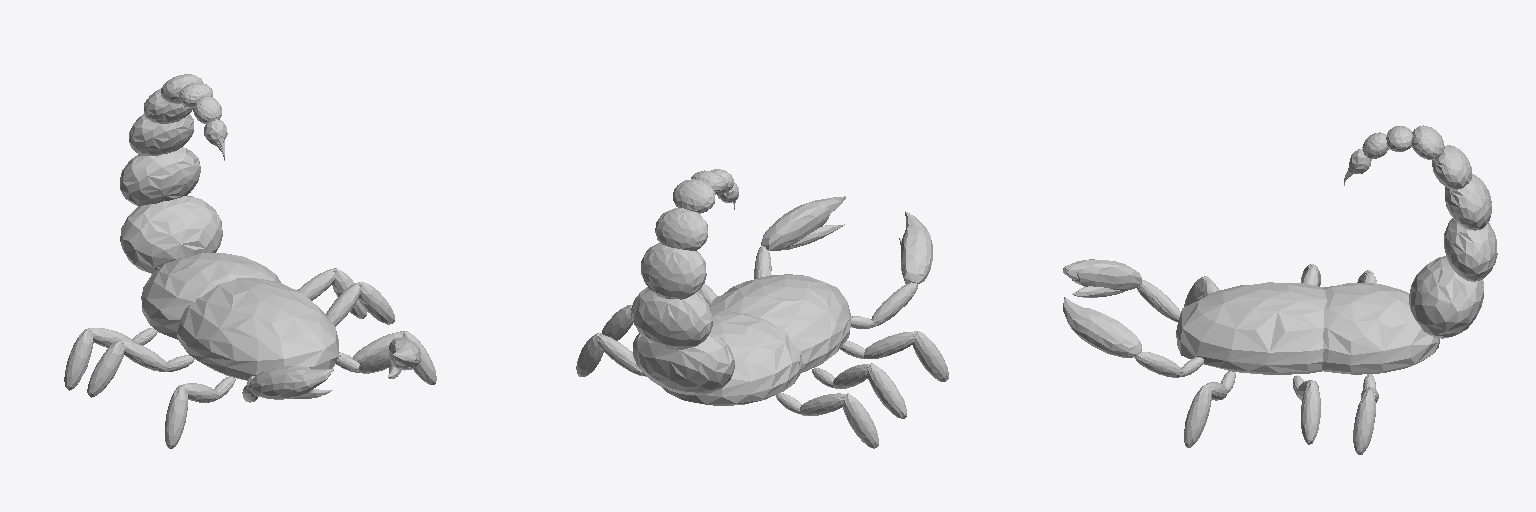
File: scorpion_000022.obj
3 renders of one model, left to right at view 1: azimuth 30°, elevation 25°; view 2: azimuth 150°, elevation 25°; view 3: azimuth 270°, elevation 25°, orthographic.
Parts seen in each view (by area): view 1: Sphere.010_Sphere.012, Sphere.002_Sphere.004, Sphere.011_Sphere.013, Sphere.003_Sphere.005, Sphere.030_Sphere.000, Sphere.004_Sphere.006, Sphere.012_Sphere.020, Sphere.000_Sphere.019, Sphere.014_Sphere.023, Sphere.016_Sphere.022, Sphere.018_Sphere.025, Sphere.013_Sphere.017 (+6 smaller); view 2: Sphere.010_Sphere.012, Sphere.011_Sphere.013, Sphere.002_Sphere.004, Sphere.030_Sphere.000, Sphere.003_Sphere.005, Sphere.004_Sphere.006, Sphere.005_Sphere.007, Sphere.014_Sphere.023, Sphere.012_Sphere.020, Sphere.018_Sphere.025, Sphere.028_Sphere.046, Sphere.006_Sphere.008 (+3 smaller); view 3: Sphere.010_Sphere.012, Sphere.011_Sphere.013, Sphere.002_Sphere.004, Sphere.030_Sphere.000, Sphere.003_Sphere.005, Sphere.004_Sphere.006, Sphere.028_Sphere.046, Sphere.000_Sphere.019, Sphere.005_Sphere.007, Sphere.014_Sphere.023, Sphere.012_Sphere.020, Sphere.006_Sphere.008 (+2 smaller).
Boxes of the visible parts, <box> form: Sphere.010_Sphere.012: <box>177,278,338,380</box>; Sphere.002_Sphere.004: <box>120,195,222,273</box>; Sphere.011_Sphere.013: <box>141,253,280,339</box>; Sphere.003_Sphere.005: <box>120,147,200,205</box>; Sphere.030_Sphere.000: <box>249,338,420,399</box>; Sphere.004_Sphere.006: <box>129,114,193,155</box>; Sphere.012_Sphere.020: <box>87,282,394,397</box>; Sphere.000_Sphere.019: <box>165,331,436,448</box>; Sphere.014_Sphere.023: <box>64,268,366,390</box>; Sphere.016_Sphere.022: <box>123,283,360,371</box>; Sphere.018_Sphere.025: <box>88,269,334,347</box>; Sphere.013_Sphere.017: <box>179,331,402,402</box>; Sphere.010_Sphere.012: <box>709,274,850,372</box>; Sphere.011_Sphere.013: <box>662,310,802,405</box>; Sphere.002_Sphere.004: <box>633,331,734,395</box>; Sphere.030_Sphere.000: <box>761,196,932,283</box>; Sphere.003_Sphere.005: <box>631,287,712,349</box>; Sphere.004_Sphere.006: <box>641,243,706,299</box>; Sphere.005_Sphere.007: <box>655,208,707,250</box>; Sphere.014_Sphere.023: <box>576,333,878,448</box>; Sphere.012_Sphere.020: <box>602,305,906,418</box>; Sphere.018_Sphere.025: <box>598,335,845,415</box>; Sphere.028_Sphere.046: <box>754,246,917,326</box>; Sphere.006_Sphere.008: <box>673,179,714,213</box>; Sphere.010_Sphere.012: <box>1176,282,1326,374</box>; Sphere.011_Sphere.013: <box>1322,283,1439,374</box>; Sphere.002_Sphere.004: <box>1409,256,1483,338</box>; Sphere.030_Sphere.000: <box>1063,259,1141,357</box>; Sphere.003_Sphere.005: <box>1444,218,1497,281</box>; Sphere.004_Sphere.006: <box>1445,174,1491,230</box>; Sphere.028_Sphere.046: <box>1134,280,1182,377</box>; Sphere.000_Sphere.019: <box>1184,276,1211,447</box>; Sphere.005_Sphere.007: <box>1432,145,1471,189</box>; Sphere.014_Sphere.023: <box>1353,270,1375,454</box>; Sphere.012_Sphere.020: <box>1301,264,1320,444</box>; Sphere.006_Sphere.008: <box>1412,125,1444,159</box>.
Bounding box in the file's own units: 0.9593 × 0.7649 × 1.18.